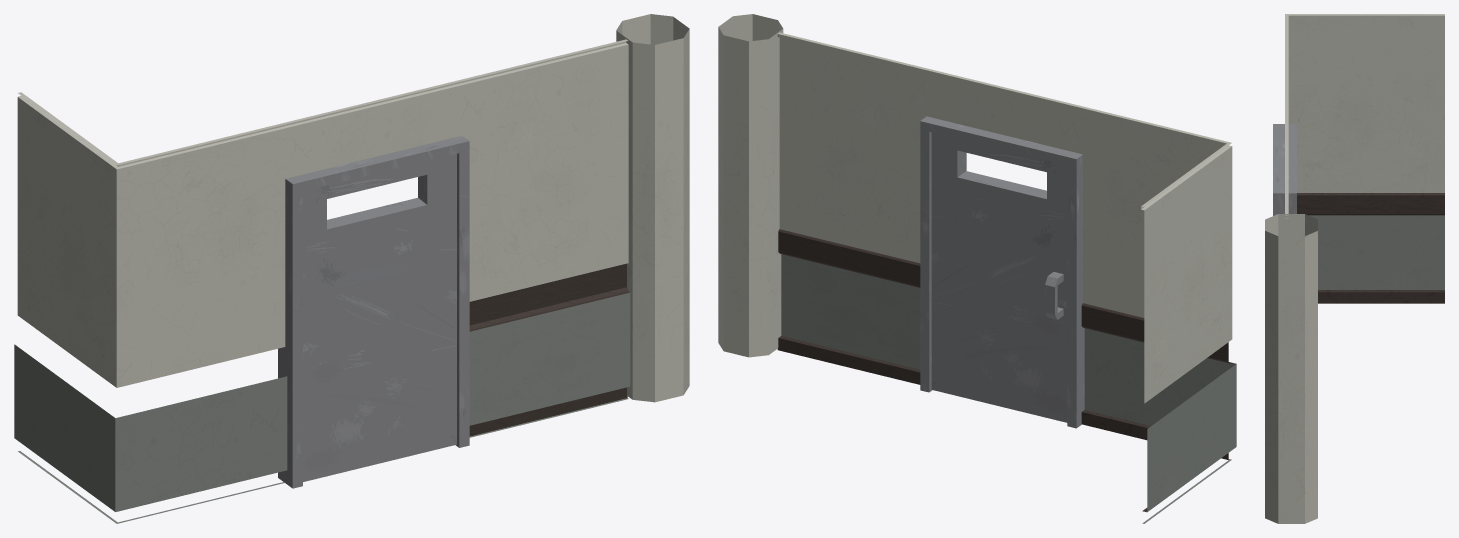
The model's file is coradoors 1.fbx.
3 renders of one model, left to right at view 1: azimuth 30°, elevation 25°; view 2: azimuth 150°, elevation 25°; view 3: azimuth 270°, elevation 25°, orthographic. The views are drawn at different scales.
Parts seen in each view (by area): view 1: coradoor_wall_conter, cora_door_wal, cell_door, piller, door_frame, cora_door_wal1; view 2: coradoor_wall_conter, cora_door_wal, cell_door, piller, door_frame, cora_door_wal1, handel; view 3: coradoor_wall_conter, piller, door_frame, cora_door_wal, cora_door_wal1.
Boxes of the visible parts, bbox=[...] form: coradoor_wall_conter: bbox=[14, 92, 287, 523]; cora_door_wal: bbox=[455, 39, 630, 437]; cell_door: bbox=[303, 154, 456, 481]; piller: bbox=[616, 14, 689, 402]; door_frame: bbox=[278, 136, 469, 488]; cora_door_wal1: bbox=[283, 81, 456, 178]; coradoor_wall_conter: bbox=[1080, 106, 1236, 523]; cora_door_wal: bbox=[777, 32, 931, 384]; cell_door: bbox=[931, 132, 1067, 422]; piller: bbox=[718, 14, 783, 357]; door_frame: bbox=[920, 116, 1084, 428]; cora_door_wal1: bbox=[929, 69, 1081, 153]; handel: bbox=[1045, 272, 1063, 319]; coradoor_wall_conter: bbox=[1285, 14, 1444, 303]; piller: bbox=[1265, 214, 1317, 523]; door_frame: bbox=[1273, 124, 1296, 215]; cora_door_wal: bbox=[1285, 148, 1288, 218]; cora_door_wal1: bbox=[1285, 80, 1288, 147].
Bounding box in the file's own units: 10.04 × 6.04 × 3.39.
4 materials, 4 textured.
